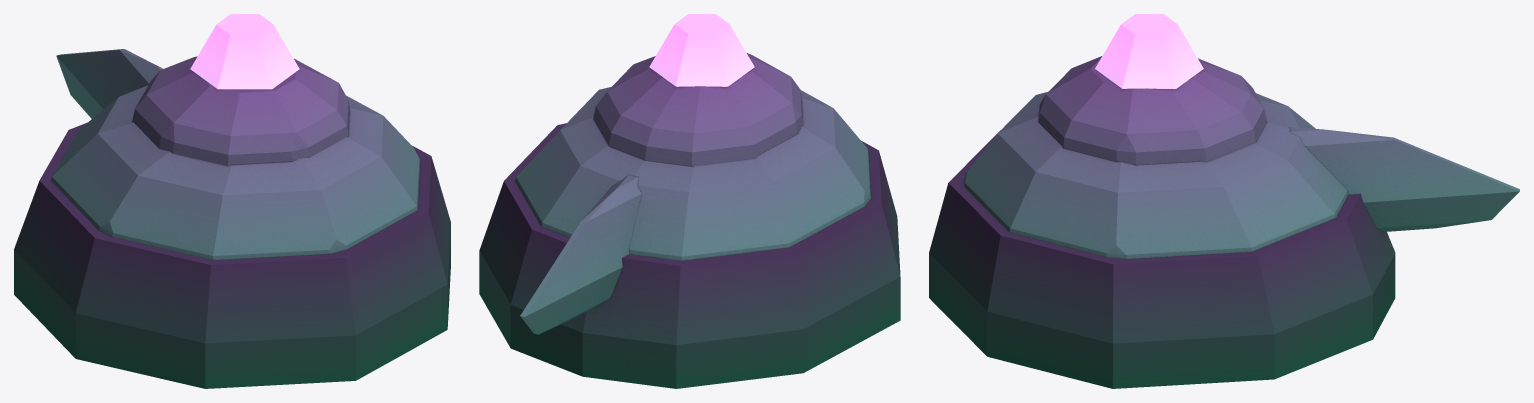
The model's file is armor_knee_solana.glb.
3 renders of one model, left to right at view 1: azimuth 30°, elevation 25°; view 2: azimuth 150°, elevation 25°; view 3: azimuth 270°, elevation 25°, orthographic. The views are drawn at different scales.
Visible parts, largest first — view 1: elbow; view 2: elbow; view 3: elbow.
Part boxes in pixels (box(x1,y1,x2,y2)): elbow: box(14, 14, 450, 388); elbow: box(479, 14, 900, 388); elbow: box(929, 14, 1519, 388).
Size of the model in its own units: 0.1438 by 0.1008 by 0.1974.
Materials: 3 (3 with a texture image).
